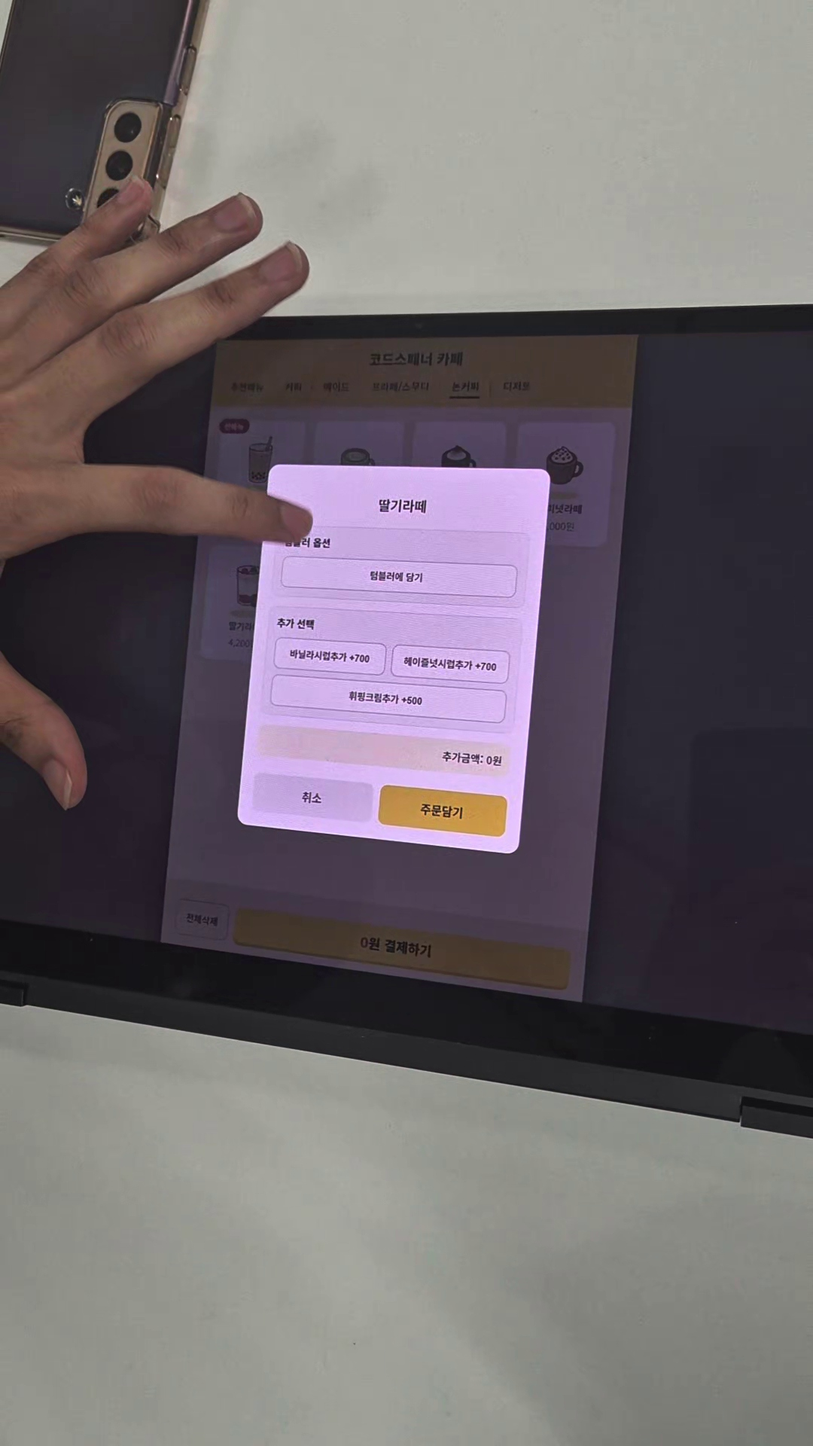action_button: (232, 906, 572, 990), (378, 786, 507, 836), (251, 773, 374, 823), (174, 898, 230, 940)
category_tab: (371, 381, 430, 393), (228, 380, 265, 393), (317, 381, 354, 394), (498, 380, 535, 392), (451, 381, 481, 392), (284, 380, 303, 393)
menu_back: (509, 421, 614, 546), (200, 544, 295, 665), (210, 418, 306, 536)
menu_name: (536, 503, 584, 516), (226, 620, 263, 633)
menu_price: (225, 636, 258, 652), (540, 519, 576, 533)
option_button: (269, 674, 506, 722), (282, 556, 516, 598), (391, 646, 510, 683), (274, 638, 387, 675)
popup_modal: (236, 464, 551, 855)
